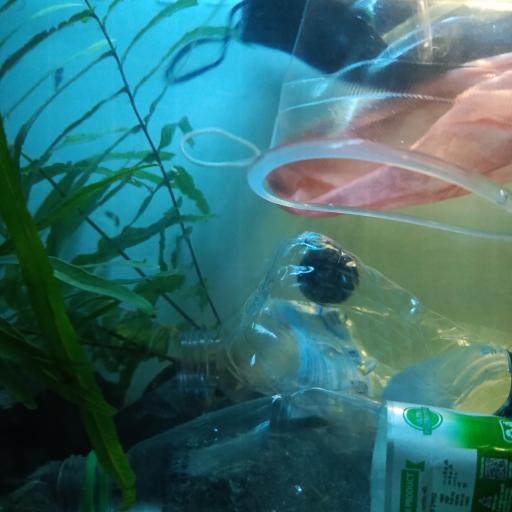bottle_cap: (298, 245, 360, 302)
mask: (177, 56, 512, 214), (160, 0, 512, 89)
plastic_bottle: (54, 383, 512, 512), (228, 234, 512, 415), (182, 294, 512, 390)
plastic_cup: (247, 0, 512, 242)
